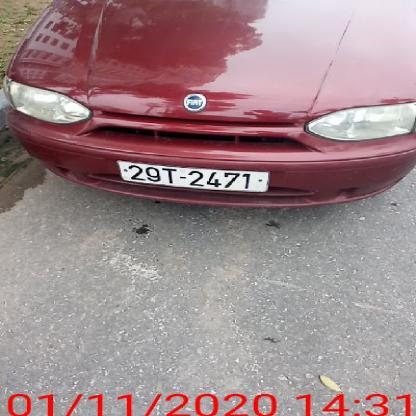biensoxe: (115, 156, 275, 194)
